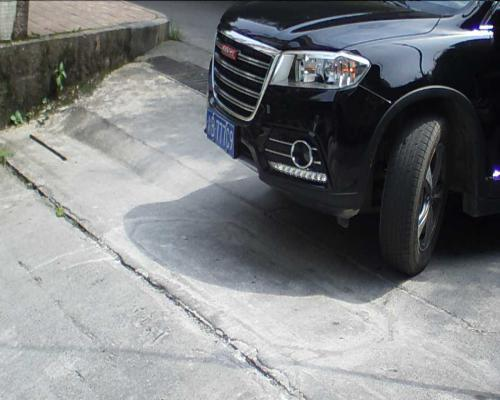Carplate: (200, 108, 236, 160)
